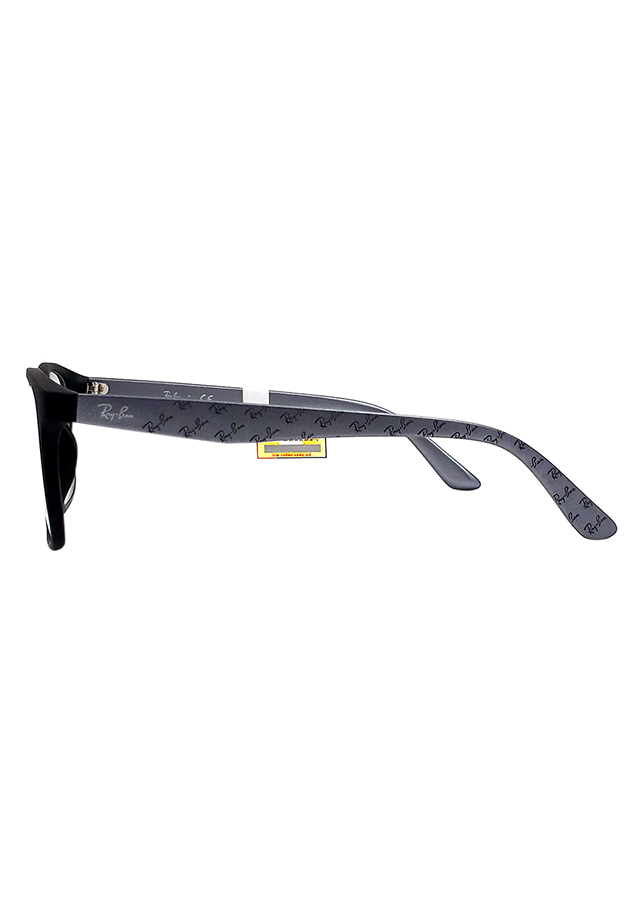Rayban: (93, 401, 139, 423)
